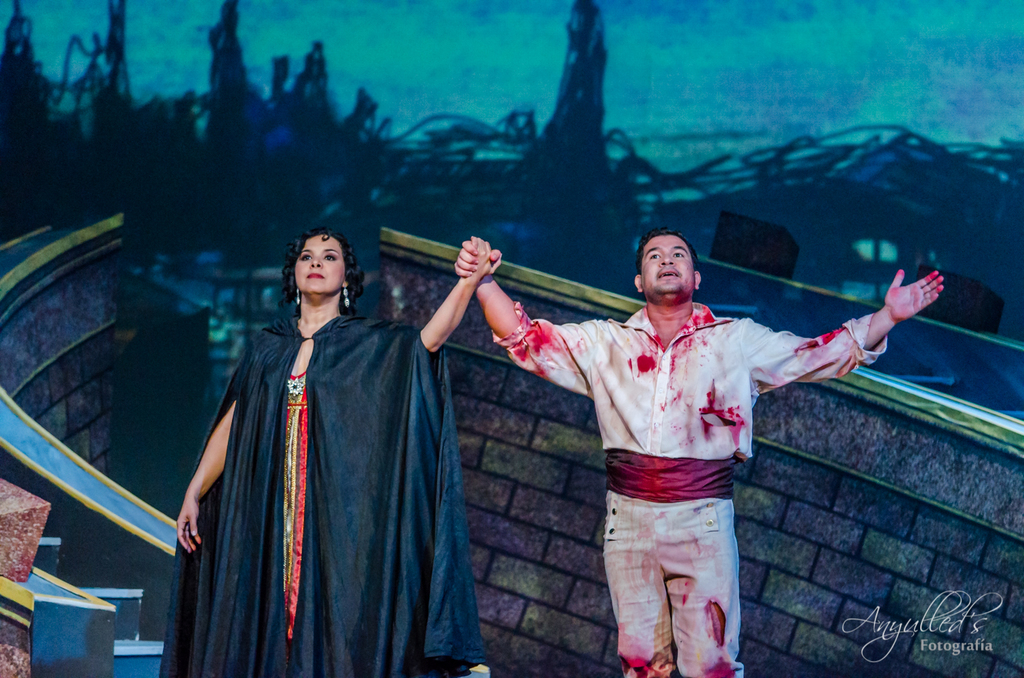Human_hand: (885, 270, 944, 322), (452, 238, 504, 280), (174, 496, 202, 559), (462, 237, 494, 284)
